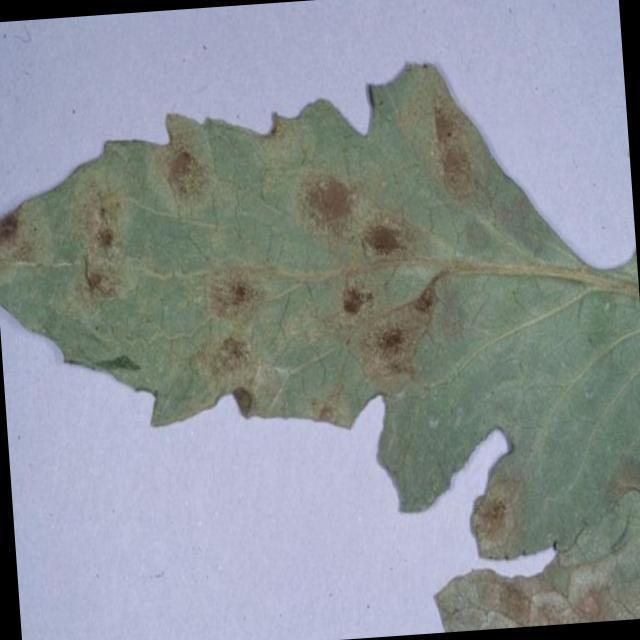Mosaic Virus: (0, 91, 485, 453), (468, 468, 528, 552)
